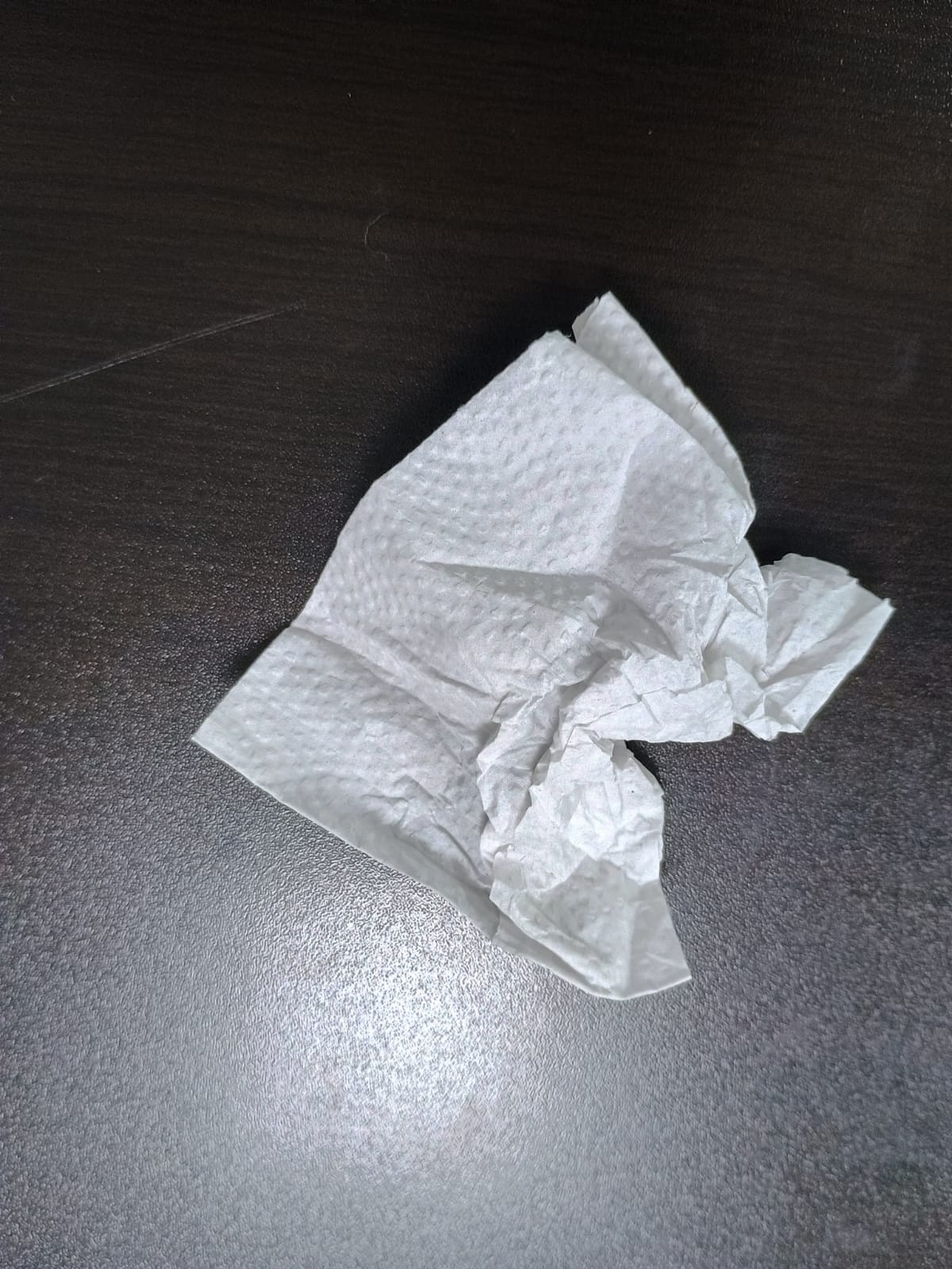Ordinario: (184, 294, 896, 998)
